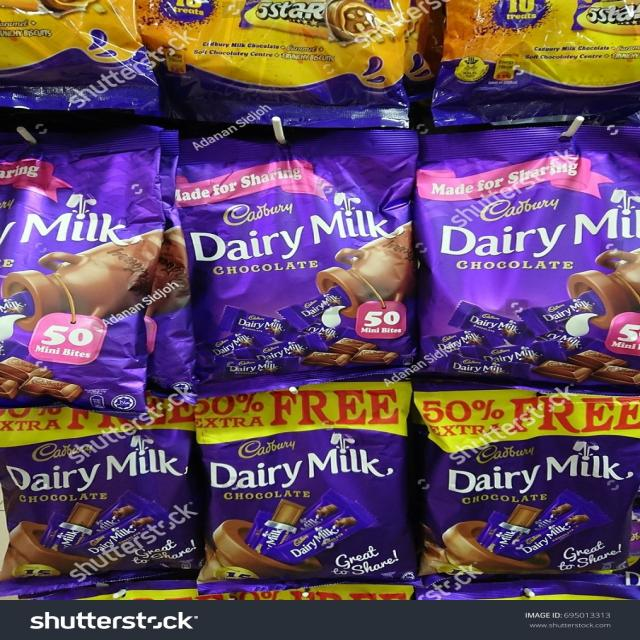cadbury: (179, 102, 411, 383), (412, 120, 640, 380), (0, 110, 168, 401), (413, 389, 640, 596), (190, 387, 400, 587), (0, 402, 202, 596)
